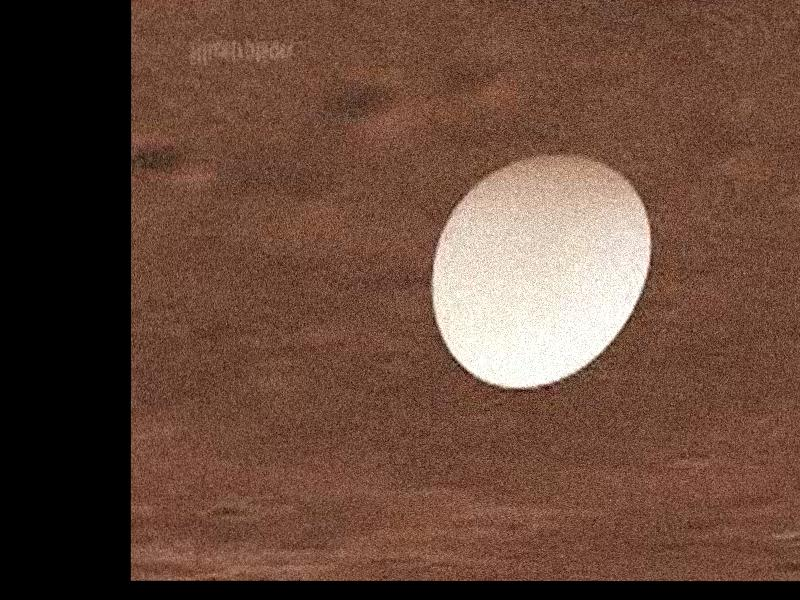Eggs: (431, 155, 653, 387)
